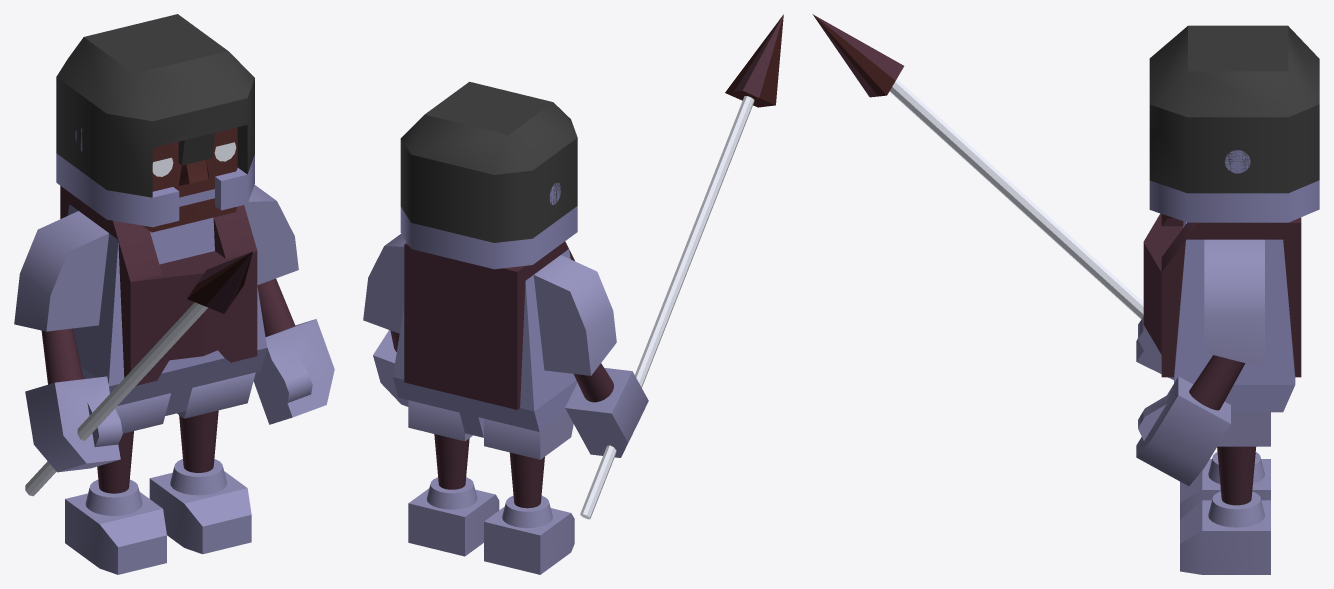
The model's file is Enemy7.fbx.
The picture shows the model from 3 angles, left to right: view 1: azimuth 30°, elevation 25°; view 2: azimuth 150°, elevation 25°; view 3: azimuth 270°, elevation 25°; orthographic projection. The views are drawn at different scales.
Parts seen in each view (by area): view 1: mergedBlocks; view 2: mergedBlocks; view 3: mergedBlocks.
Part boxes in pixels (box(x1,y1,x2,y2)): mergedBlocks: box(14, 14, 334, 574); mergedBlocks: box(363, 14, 783, 574); mergedBlocks: box(812, 14, 1319, 574).
Size of the model in its own units: 5.37 by 8.91 by 8.35.
